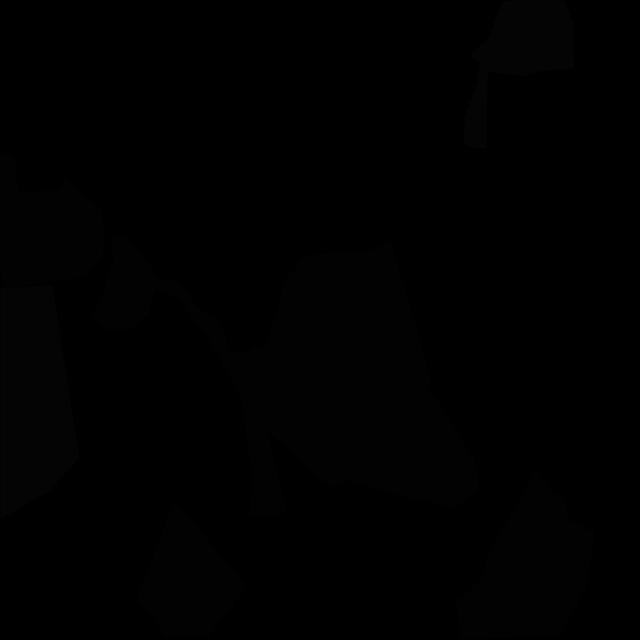cardboard: (91, 233, 479, 517), (456, 469, 595, 639), (136, 500, 247, 638), (0, 153, 104, 288)
soft_plastic: (0, 284, 80, 519), (463, 0, 574, 148)
